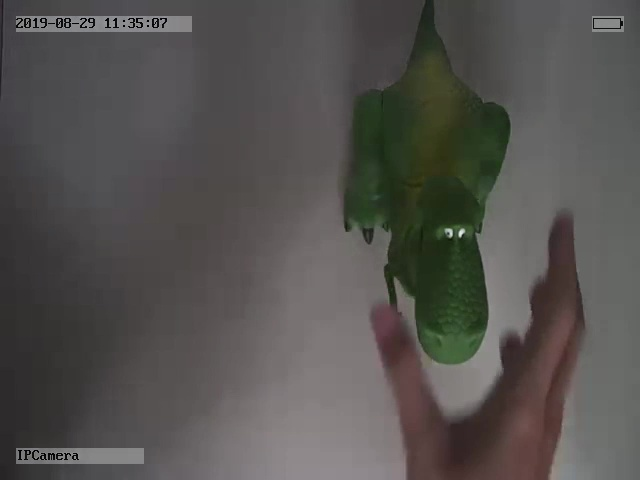rex: (339, 4, 511, 366)
